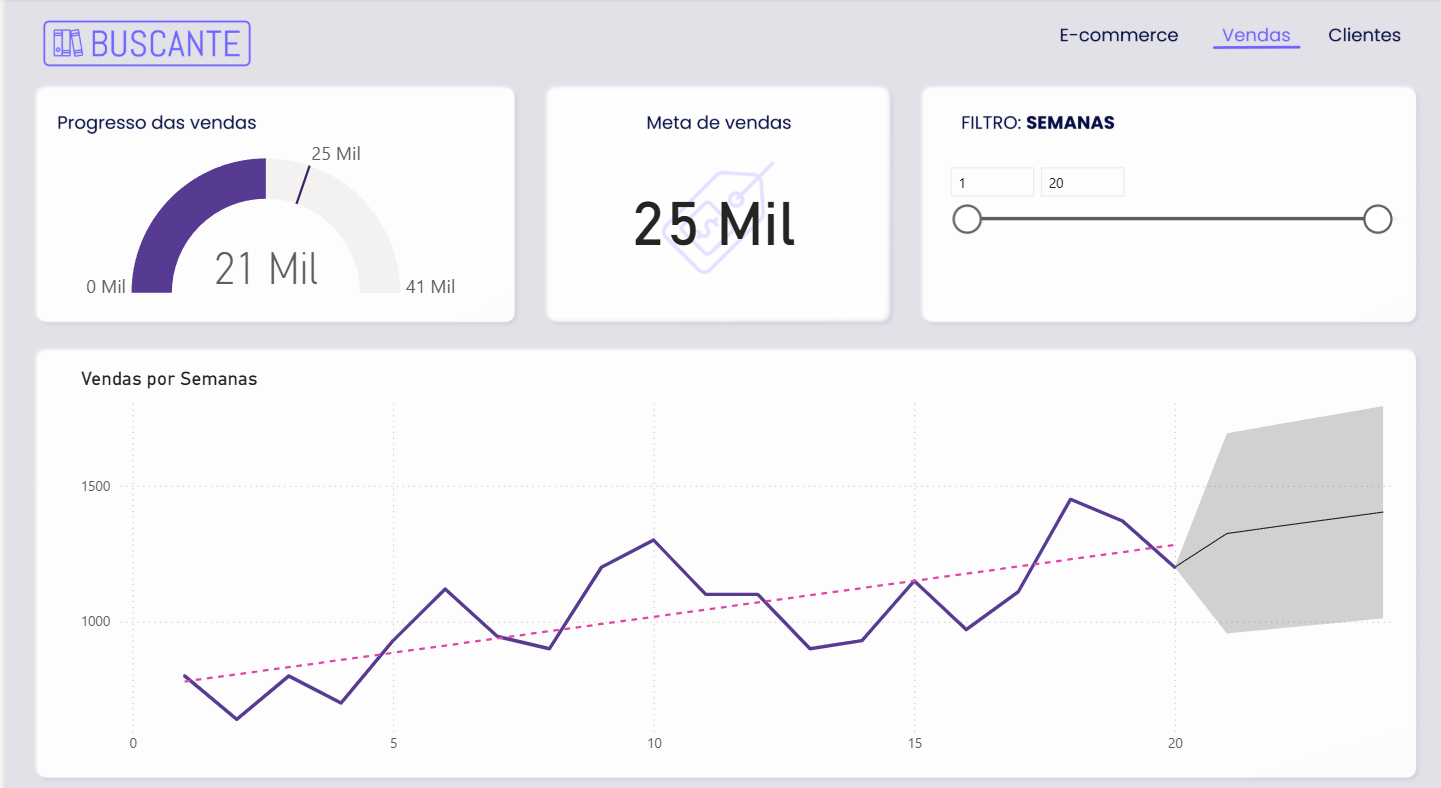

This screenshot's page, from the dashboard's own definition file:
{"tool":"powerbi","page":{"name":"Página 2","canvas":[1280,720],"ordinal":1},"visuals":[{"type":"multiRowCard","fields":{"Values":["Sum(Vendas por semana.Vendas)","Sum(Vendas por semana.Meta de vendas)"]},"box":[652.2,17.9,579.6,95.2],"z":0},{"type":"gauge","fields":{"Y":["Sum(Vendas por semana.Vendas)"],"TargetValue":["Sum(Vendas por semana.Meta de vendas)"]},"box":[93,113,948,238],"z":1000},{"type":"slicer","fields":{"Values":["Vendas por semana.Semanas"]},"box":[68.1,467.8,947.4,238.3],"z":2000}]}

Visuals, with their boxes in screenshot pixels (x1, y1, x2, y2), scaled from the page's 1280x720 canvas onto the 1441x788 screenshot:
multiRowCard - Sum(Vendas por semana.Vendas) x Sum(Vendas por semana.Meta de vendas): BBox(734, 20, 1387, 124)
gauge - Sum(Vendas por semana.Vendas) x Sum(Vendas por semana.Meta de vendas): BBox(105, 124, 1172, 384)
slicer - Vendas por semana.Semanas: BBox(77, 512, 1143, 773)
